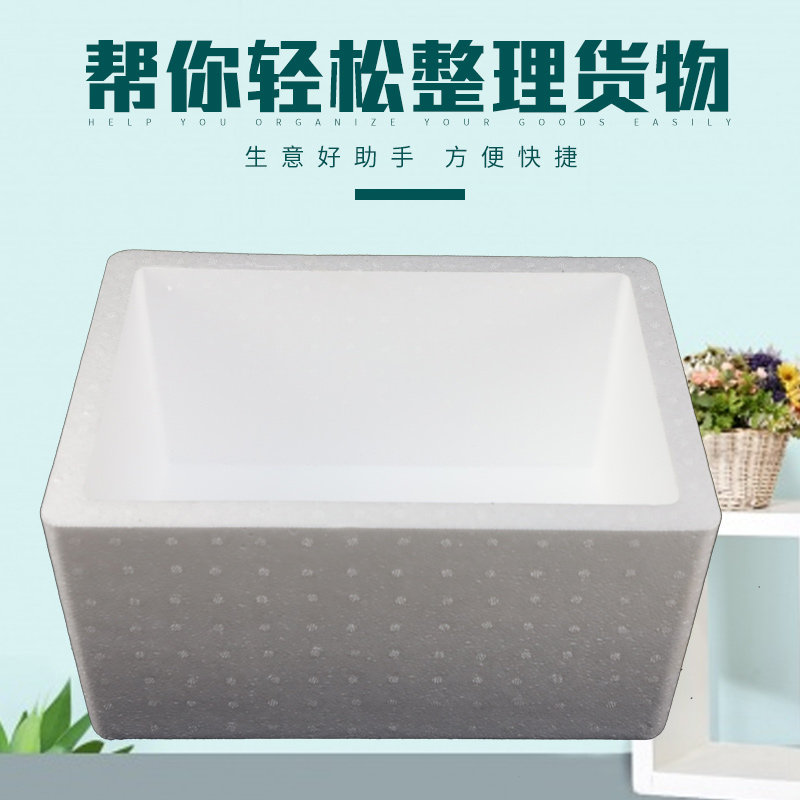泡沫箱: (41, 251, 720, 738)
